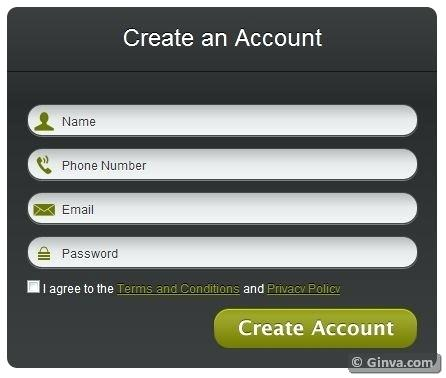_form_: (8, 1, 424, 378)
button: (213, 307, 417, 350)
checkbox: (26, 279, 41, 294)
checkbox_with_label: (23, 277, 341, 297)
field: (25, 148, 420, 182), (25, 236, 418, 270), (26, 191, 418, 225), (26, 103, 417, 137)
